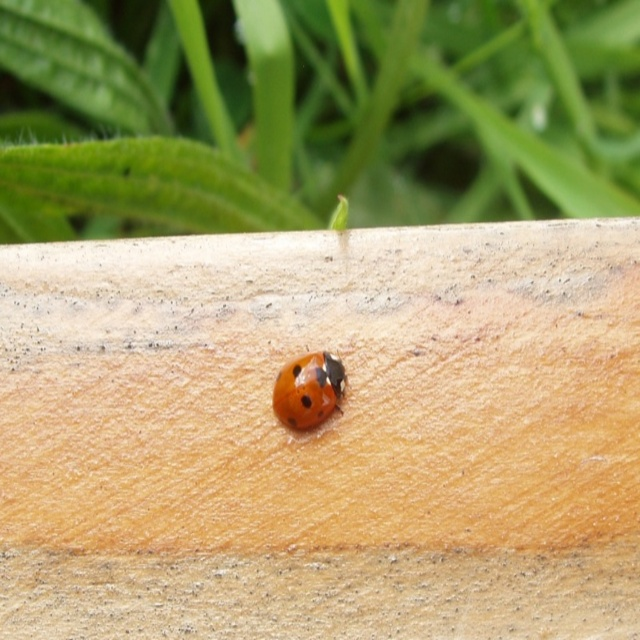Ladybug: (270, 353, 349, 437)
